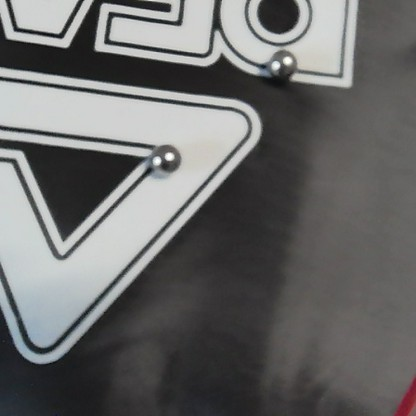ironball: (268, 50, 296, 77), (153, 145, 179, 172)
